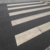zebra: (7, 2, 50, 45)
